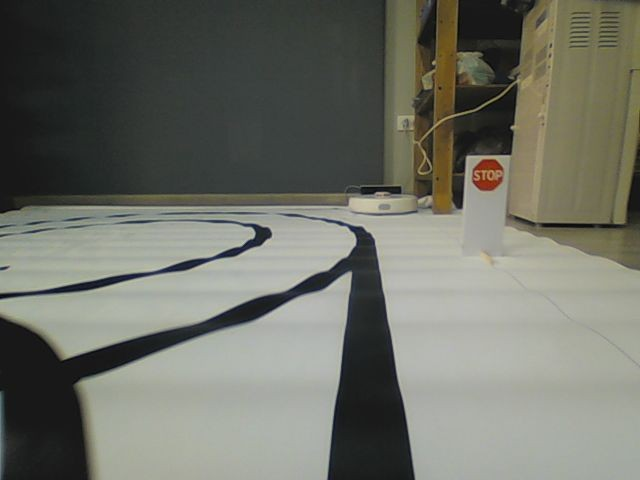Stop: (470, 156, 504, 193)
